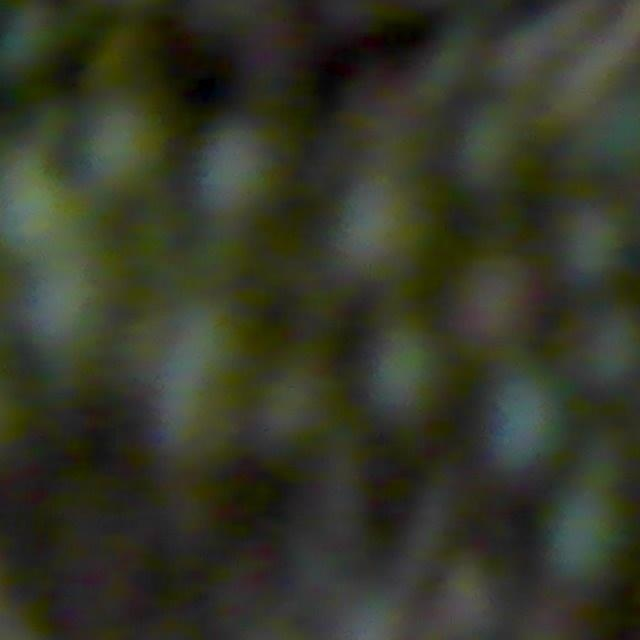SeaGrape: (148, 322, 232, 462), (344, 326, 436, 426), (481, 368, 570, 470), (78, 96, 169, 193), (0, 156, 90, 251), (541, 484, 629, 581), (450, 251, 541, 344), (320, 178, 408, 274), (21, 267, 108, 360), (252, 361, 338, 449), (453, 105, 530, 191), (200, 134, 276, 218), (554, 210, 628, 283), (577, 308, 640, 390), (0, 0, 63, 80)
